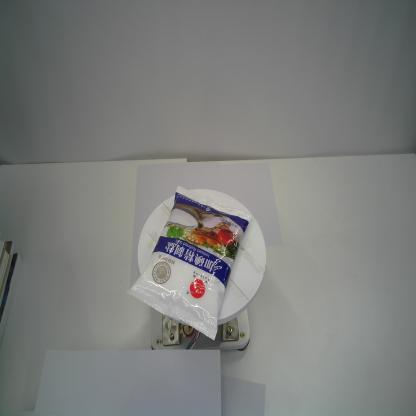Seasoner: (126, 185, 252, 341)
